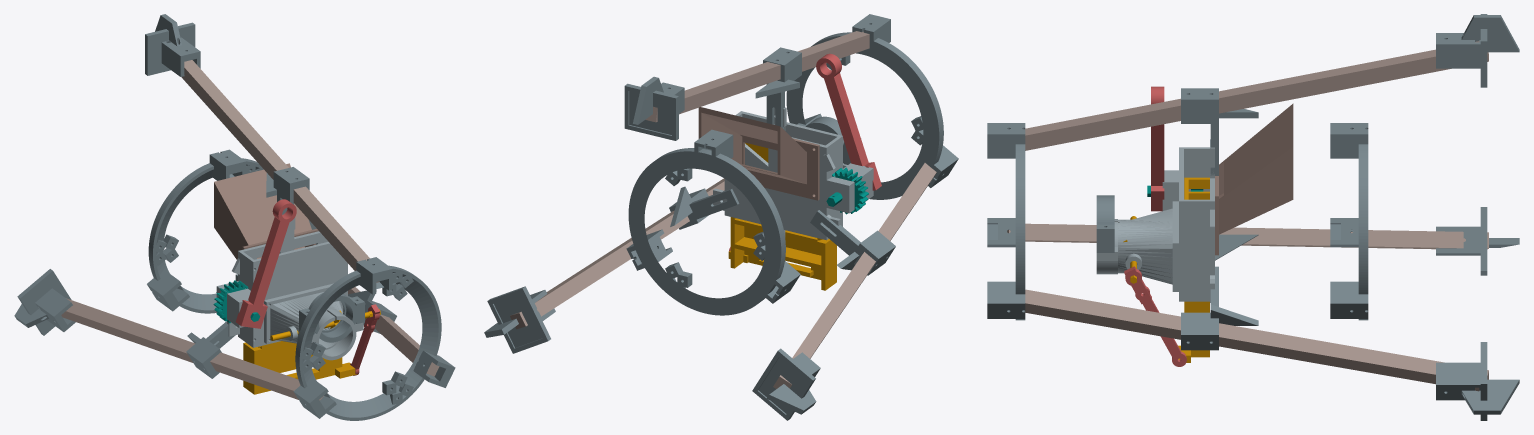
The model's file is conjunto_alimento.glb.
The picture shows the model from 3 angles, left to right: view 1: azimuth 30°, elevation 25°; view 2: azimuth 150°, elevation 25°; view 3: azimuth 270°, elevation 25°; orthographic projection. The views are drawn at different scales.
Parts seen in each view (by area): view 1: world; view 2: world; view 3: world.
Part boxes in pixels (bbox=[...]): world: bbox=[14, 14, 455, 420]; world: bbox=[484, 14, 958, 420]; world: bbox=[987, 14, 1519, 420].
Size of the model in its own units: 495 by 444 by 644.
